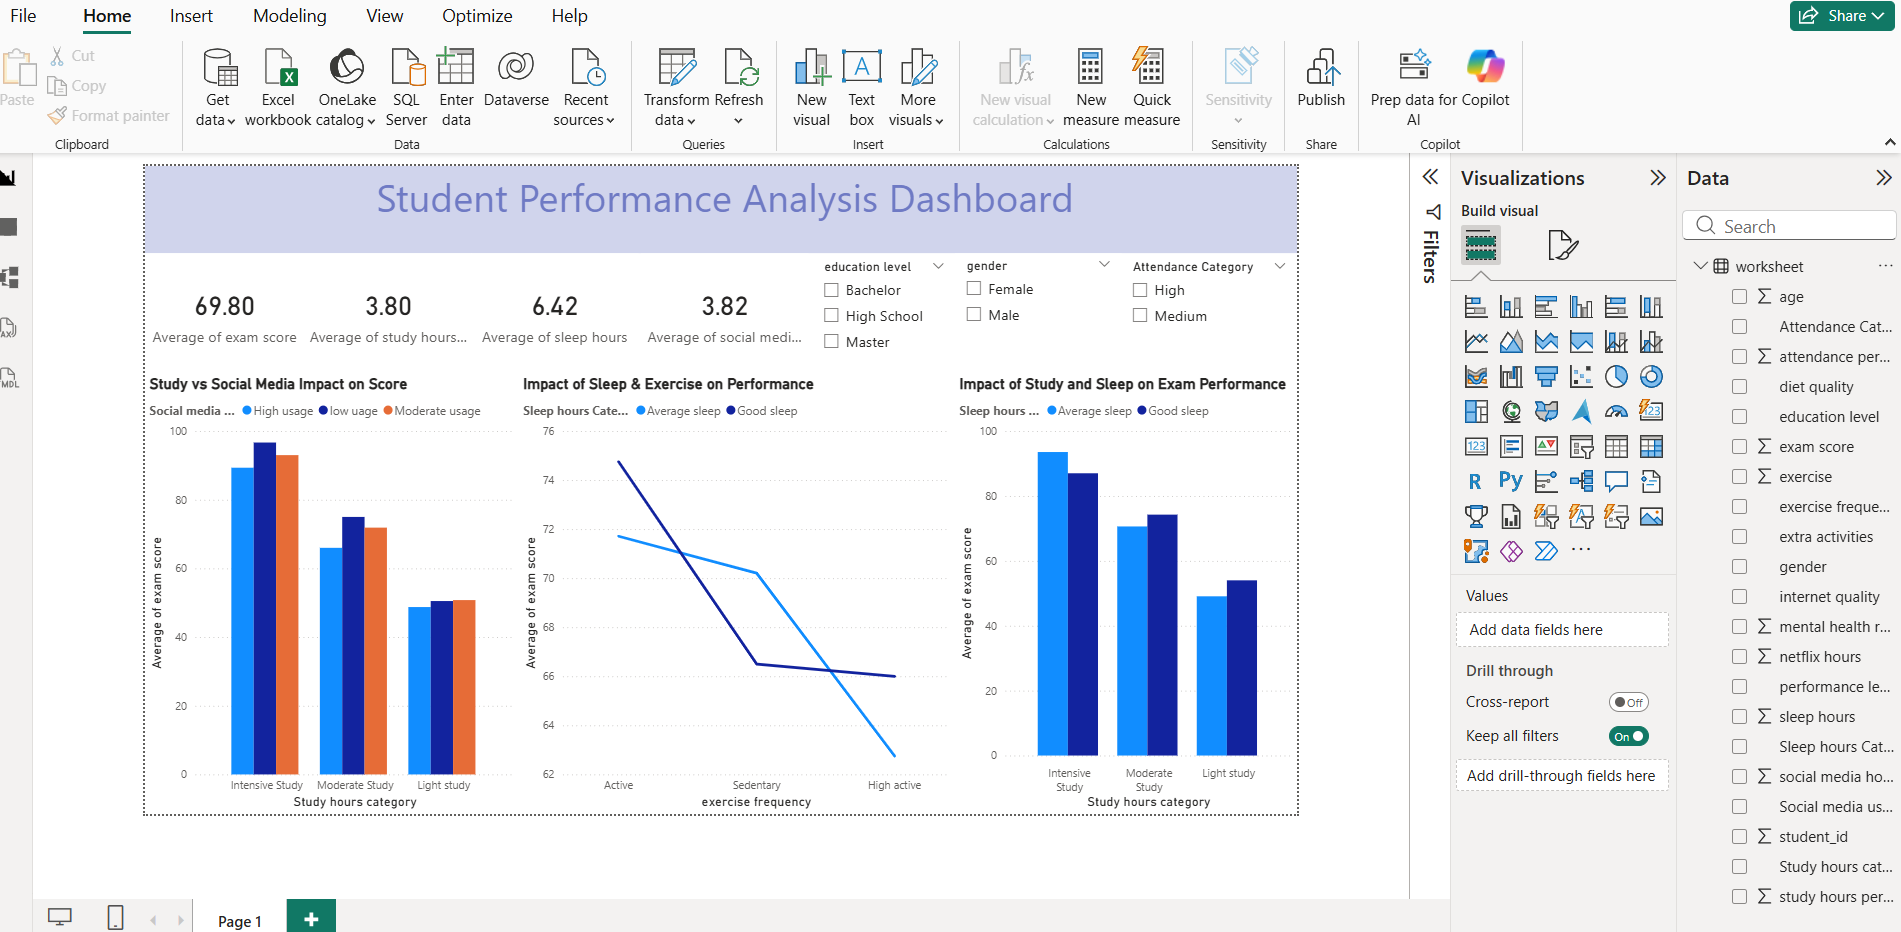

This screenshot's page, from the dashboard's own definition file:
{"tool":"powerbi","page":{"name":"Page 1","canvas":[1280,720],"ordinal":0},"visuals":[{"type":"textbox","box":[10,0,1270,96.9],"z":0},{"type":"textbox","box":[10,290,280,280],"z":1},{"type":"shape","box":[0,0,1280,96.9],"z":2},{"type":"clusteredColumnChart","title":"Study vs Social Media Impact on Score","fields":{"Category":["worksheet.Study hours category"],"Y":["Avg(worksheet.exam score)"],"Series":["worksheet.Social media usage category"]},"box":[0,232.1,415.8,487.8],"z":3},{"type":"lineChart","title":"Impact of Sleep & Exercise on Performance","fields":{"Category":["worksheet.exercise frequency"],"Y":["Avg(worksheet.exam score)"],"Series":["worksheet.Sleep hours Category"]},"box":[415.8,232.1,484.1,487.8],"z":4},{"type":"clusteredColumnChart","title":"Impact of Study and Sleep on Exam Performance","fields":{"Category":["worksheet.Study hours category"],"Series":["worksheet.Sleep hours Category"],"Y":["Avg(worksheet.exam score)"]},"box":[899.9,232.1,379.8,487.8],"z":5},{"type":"card","fields":{"Values":["Avg(worksheet.exam score)"]},"box":[0,96.6,177.3,135.7],"z":6},{"type":"card","fields":{"Values":["Avg(worksheet.study hours per day)"]},"box":[177.3,96.6,185.9,135.7],"z":7},{"type":"card","fields":{"Values":["Avg(worksheet.sleep hours)"]},"box":[363.2,96.6,185.9,135.7],"z":8},{"type":"card","fields":{"Values":["Avg(worksheet.social media hours)"]},"box":[551.5,96.6,185.9,135.7],"z":9},{"type":"slicer","fields":{"Values":["worksheet.education level"]},"box":[741,98.1,158.9,134.1],"z":10},{"type":"slicer","fields":{"Values":["worksheet.Attendance Category"]},"box":[1084.5,98.3,195.2,135.9],"z":11},{"type":"slicer","fields":{"Values":["worksheet.gender"]},"box":[899.4,96.9,185.1,135.9],"z":12}]}

Visuals, with their boxes on the page's 1280x720 design canvas (x1, y1, x2, y2). These are canvas units, not pixel positions in the 1901x932 screenshot, which may show the page scaled, cropped or inside an application window:
textbox: locate(10, 0, 1280, 97)
textbox: locate(10, 290, 290, 570)
shape: locate(0, 0, 1280, 97)
"Study vs Social Media Impact on Score" clusteredColumnChart: locate(0, 232, 416, 720)
"Impact of Sleep & Exercise on Performance" lineChart: locate(416, 232, 900, 720)
"Impact of Study and Sleep on Exam Performance" clusteredColumnChart: locate(900, 232, 1280, 720)
card - Avg(worksheet.exam score): locate(0, 97, 177, 232)
card - Avg(worksheet.study hours per day): locate(177, 97, 363, 232)
card - Avg(worksheet.sleep hours): locate(363, 97, 549, 232)
card - Avg(worksheet.social media hours): locate(552, 97, 737, 232)
slicer - worksheet.education level: locate(741, 98, 900, 232)
slicer - worksheet.Attendance Category: locate(1084, 98, 1280, 234)
slicer - worksheet.gender: locate(899, 97, 1084, 233)
